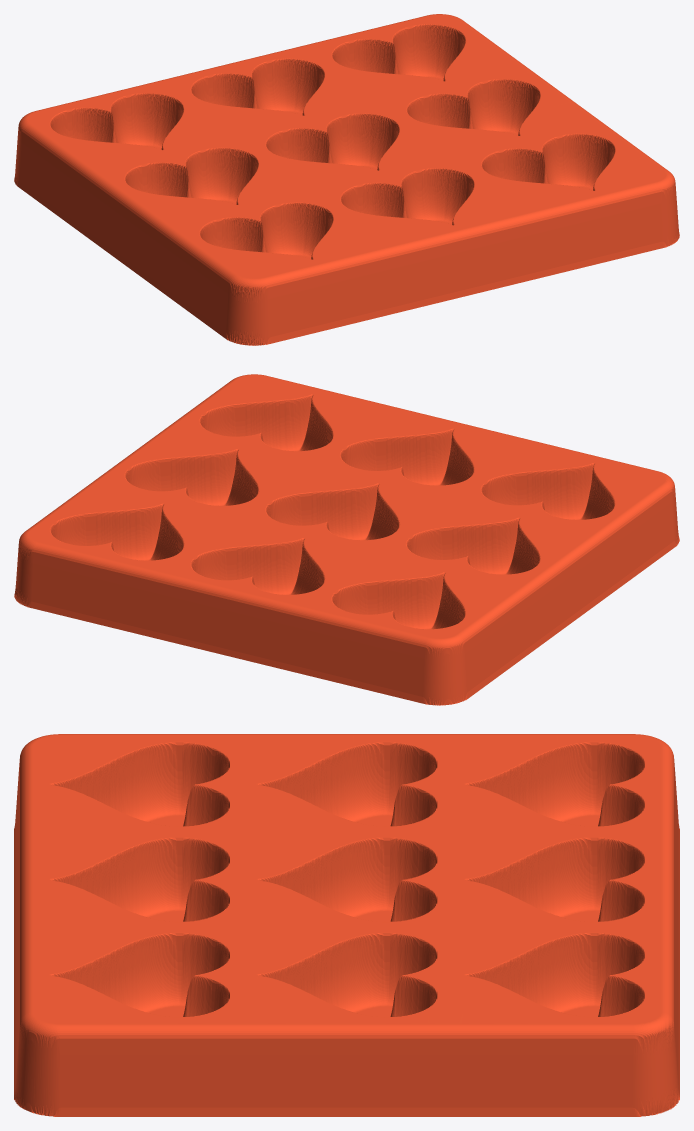
The model's file is mold.glb.
3 views of the same model, one above another, from view 1: azimuth 30°, elevation 25°; view 2: azimuth 150°, elevation 25°; view 3: azimuth 270°, elevation 25° (orthographic). The views are drawn at different scales.
Parts seen in each view (by area): view 1: geometry_0; view 2: geometry_0; view 3: geometry_0.
Boxes of the visible parts, bbox=[...] form: geometry_0: bbox=[14, 14, 679, 345]; geometry_0: bbox=[14, 374, 679, 705]; geometry_0: bbox=[14, 734, 679, 1116].
Size of the model in its own units: 0.1402 by 0.0182 by 0.1295.
